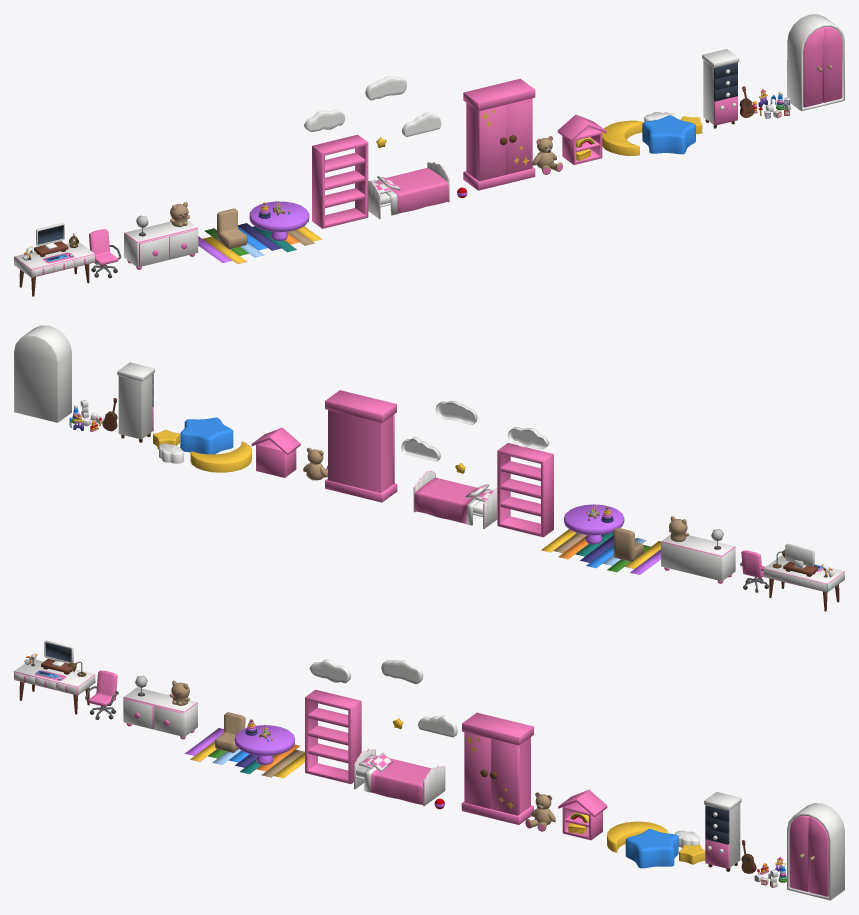
File: Baby_Room .fbx
3 renders of one model, top to bottom at view 1: azimuth 30°, elevation 25°; view 2: azimuth 150°, elevation 25°; view 3: azimuth 330°, elevation 25°, orthographic.
Visible parts, largest first — view 1: Cabinet, Wardrobe_1, Cupboard_2, Bed_1, Cupboard_1, Cabinet_2, Carpet, Table_Star_1, Table_1, House_toy, Table_2, Pouf_Moon_1 (+7 smaller); view 2: Cabinet, Wardrobe_1, Cupboard_2, Bed_1, Cupboard_1, Cabinet_2, Carpet, House_toy, Table_Star_1, Table_1, Table_2, Pouf_Moon_1 (+7 smaller); view 3: Cabinet, Wardrobe_1, Cupboard_2, Bed_1, Cupboard_1, Cabinet_2, Carpet, Table_Star_1, Table_1, House_toy, Table_2, Chair_3 (+7 smaller).
Part boxes in pixels (bbox=[...]): Cabinet: bbox=[463, 78, 535, 190]; Wardrobe_1: bbox=[787, 14, 844, 111]; Cupboard_2: bbox=[312, 134, 368, 228]; Bed_1: bbox=[368, 162, 449, 219]; Cupboard_1: bbox=[124, 220, 198, 269]; Cabinet_2: bbox=[702, 49, 739, 128]; Carpet: bbox=[198, 223, 321, 263]; Table_Star_1: bbox=[642, 115, 695, 154]; Table_1: bbox=[14, 242, 95, 296]; House_toy: bbox=[557, 114, 606, 164]; Table_2: bbox=[249, 201, 309, 240]; Pouf_Moon_1: bbox=[602, 120, 643, 155]; Cabinet: bbox=[325, 390, 397, 502]; Wardrobe_1: bbox=[14, 325, 71, 422]; Cupboard_2: bbox=[497, 443, 553, 537]; Bed_1: bbox=[413, 470, 497, 528]; Cupboard_1: bbox=[661, 535, 735, 583]; Cabinet_2: bbox=[117, 362, 154, 442]; Carpet: bbox=[541, 529, 660, 574]; House_toy: bbox=[251, 427, 300, 477]; Table_Star_1: bbox=[180, 417, 233, 454]; Table_1: bbox=[763, 555, 844, 611]; Table_2: bbox=[564, 504, 624, 544]; Pouf_Moon_1: bbox=[190, 441, 251, 472]; Cabinet: bbox=[461, 712, 533, 824]; Wardrobe_1: bbox=[787, 803, 844, 900]; Cupboard_2: bbox=[305, 689, 361, 783]; Bed_1: bbox=[354, 749, 445, 806]; Cupboard_1: bbox=[123, 687, 197, 739]; Cabinet_2: bbox=[704, 792, 741, 871]; Carpet: bbox=[185, 728, 304, 778]; Table_Star_1: bbox=[625, 829, 678, 868]; Table_1: bbox=[14, 659, 95, 714]; House_toy: bbox=[558, 789, 607, 840]; Table_2: bbox=[234, 725, 294, 764]; Chair_3: bbox=[85, 670, 118, 719].
Bounding box in the file's own units: 2574 × 362 × 240.
